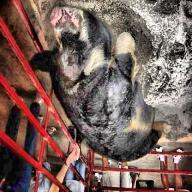boar: (32, 0, 177, 171)
